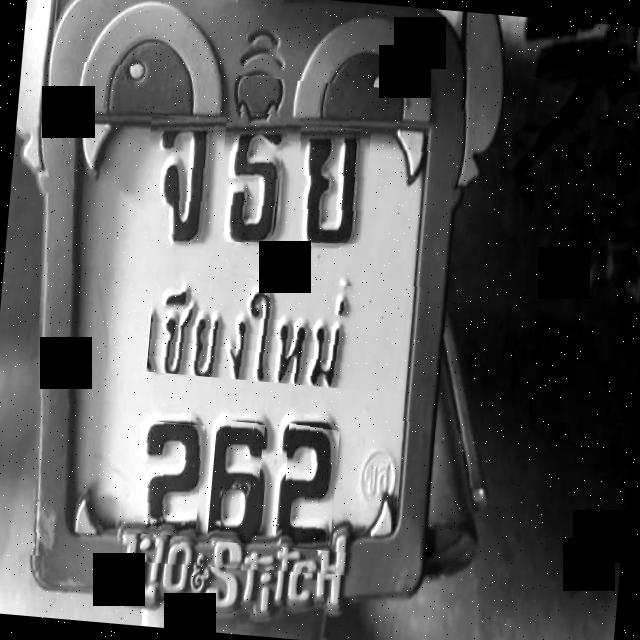letters: (113, 418, 204, 538), (140, 116, 214, 260), (291, 124, 371, 248), (216, 110, 286, 247), (278, 422, 340, 550), (207, 419, 264, 544)
license-plate: (21, 75, 459, 569)
province: (146, 261, 412, 394)
